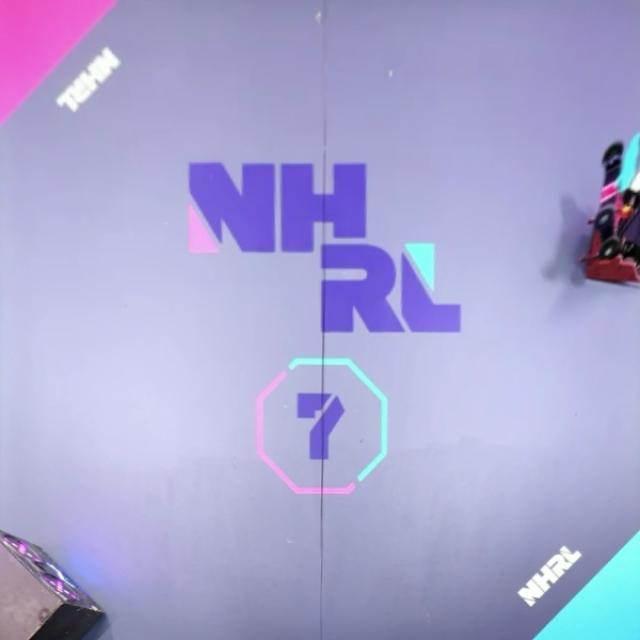housebot: (0, 527, 107, 640)
robot: (578, 193, 640, 284), (596, 133, 640, 260)
